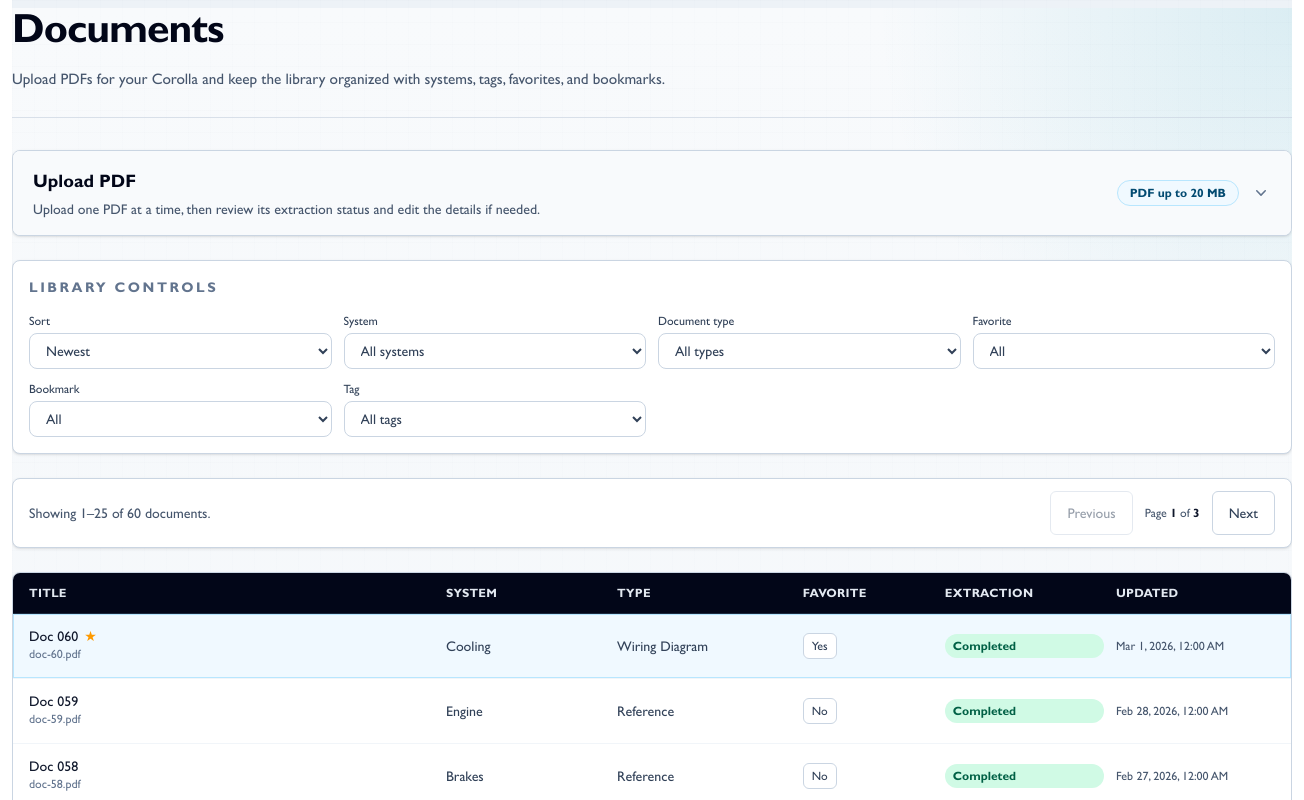
Scenario: Next and Previous request the matching offset and keep the counter honest
This screenshot has width=1304, height=800.
Check: the heading "Library controls" is shown, box [29, 277, 218, 297]
Click the button "Next" at [1243, 513], box [1212, 491, 1275, 535]
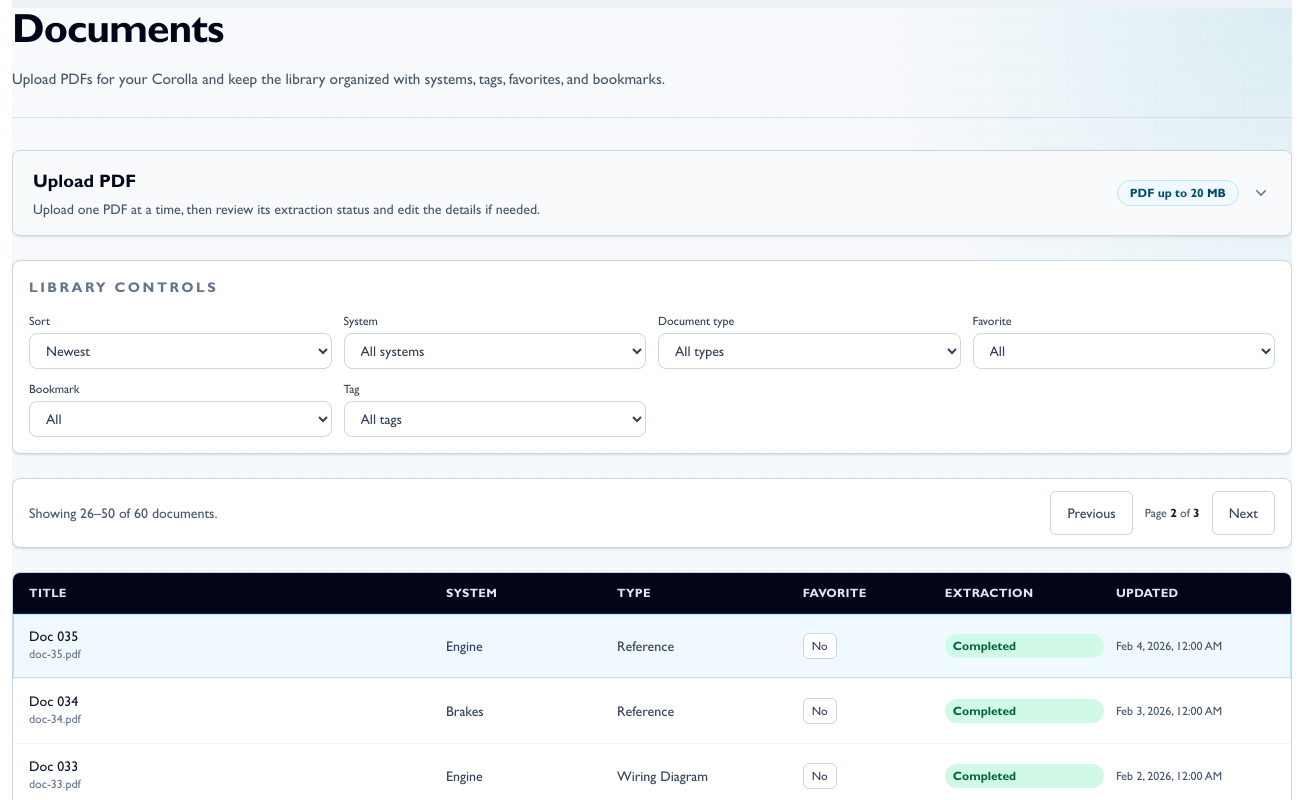
Check: the text "Showing 26–50 of 60 documents." is shown, box [29, 503, 218, 523]
Check: the button "Doc 035" is shown, box [29, 626, 78, 646]
Click the button "Next" at [1243, 513], box [1212, 491, 1275, 535]
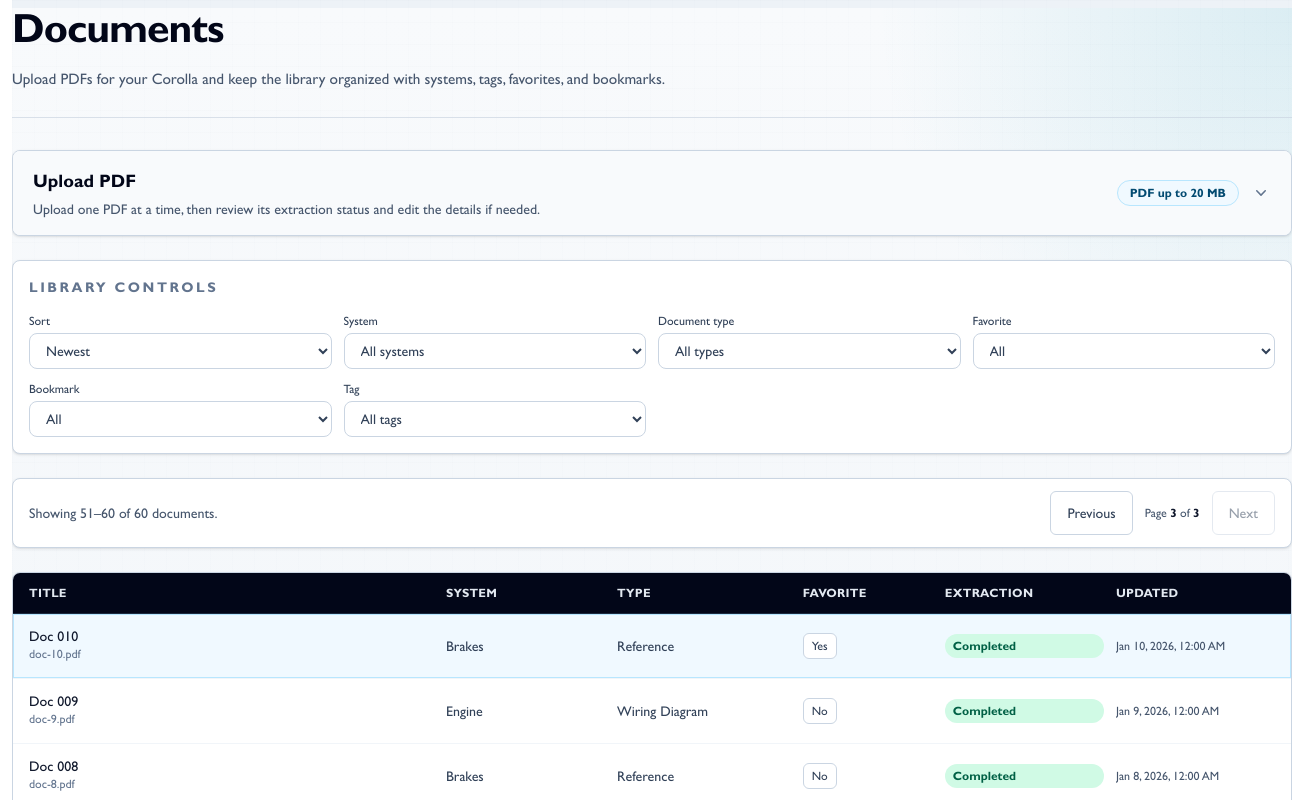
Check: the text "Showing 51–60 of 60 documents." is shown, box [29, 503, 218, 523]
Check: the button "Next" is disabled, box [1212, 491, 1275, 535]
Click the button "Previous" at [1092, 513], box [1050, 491, 1133, 535]
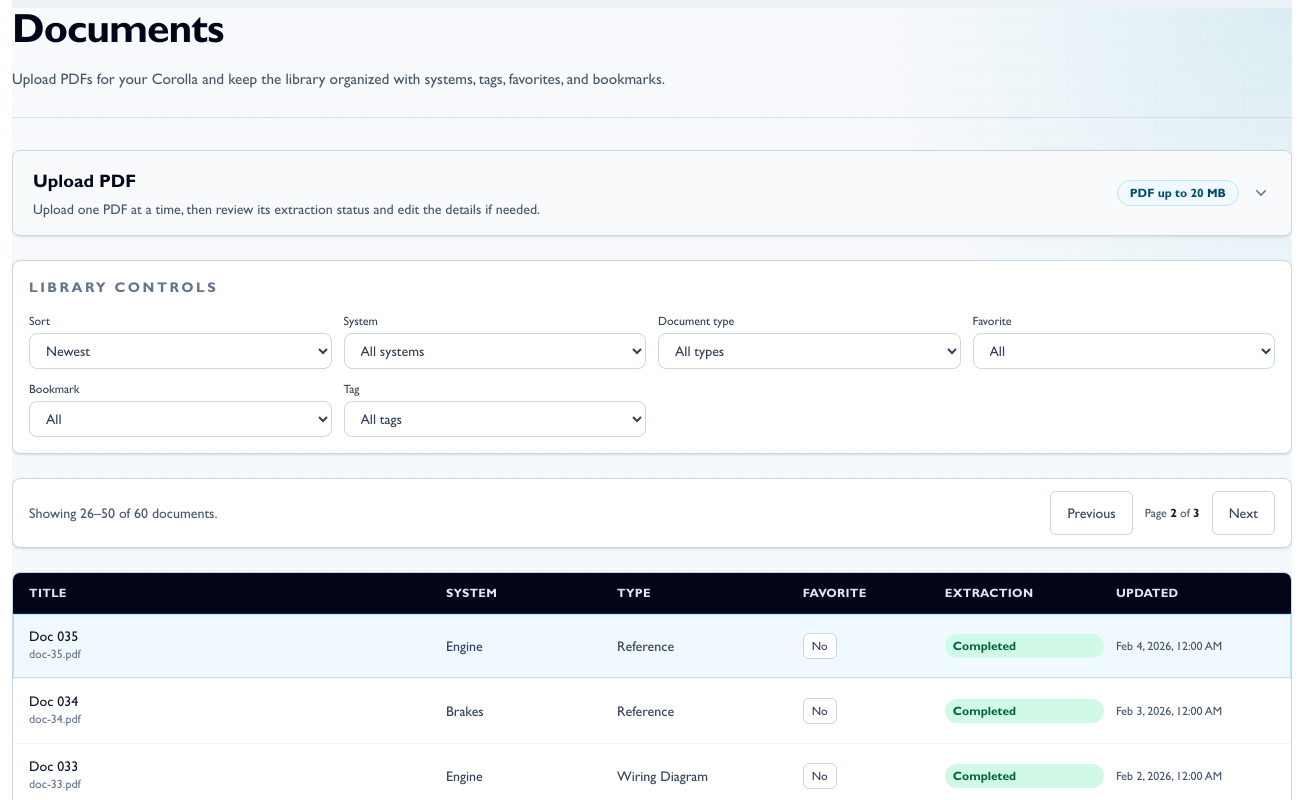
Check: the text "Showing 26–50 of 60 documents." is shown, box [29, 503, 218, 523]
